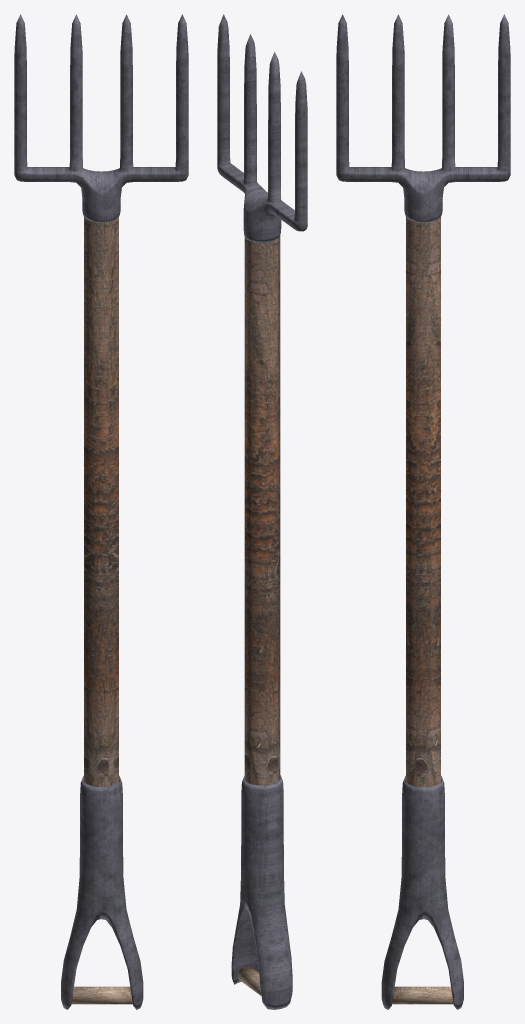
The model's file is pitchfork.fbx.
The picture shows the model from 3 angles, left to right: view 1: azimuth 90°, elevation 25°; view 2: azimuth 210°, elevation 25°; view 3: azimuth 270°, elevation 25°; orthographic projection. The views are drawn at different scales.
Parts seen in each view (by area): view 1: pitchfork.001, pitchfork; view 2: pitchfork.001, pitchfork; view 3: pitchfork.001, pitchfork.
Boxes of the visible parts, x1,y1,x2,y2 form: pitchfork.001: [71, 216, 132, 1004]; pitchfork: [14, 14, 188, 1009]; pitchfork.001: [237, 236, 280, 995]; pitchfork: [217, 14, 307, 1009]; pitchfork.001: [392, 216, 453, 1004]; pitchfork: [336, 14, 510, 1009].
Size of the model in its own units: 5.83 by 144 by 23.06.
Materials: 2 (2 with a texture image).
